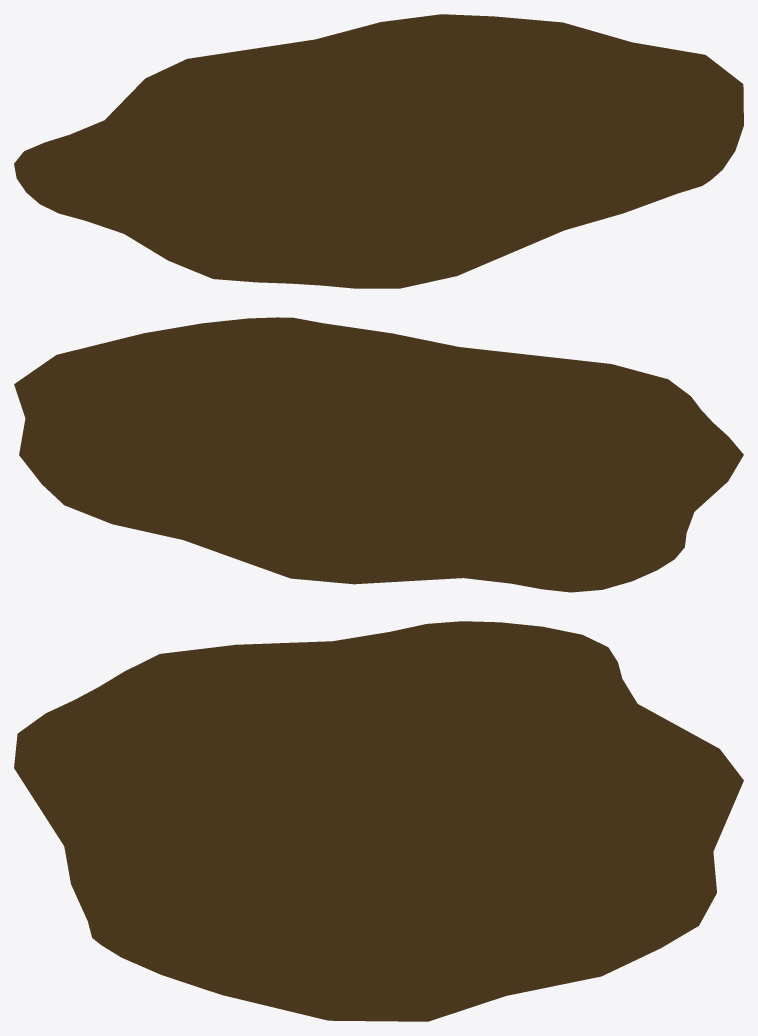
File: mud_2.fbx
The picture shows the model from 3 angles, top to bottom: view 1: azimuth 30°, elevation 25°; view 2: azimuth 150°, elevation 25°; view 3: azimuth 270°, elevation 25°; orthographic projection. The views are drawn at different scales.
Parts seen in each view (by area): view 1: mud_2; view 2: mud_2; view 3: mud_2.
Boxes of the visible parts, x1,y1,x2,y2 form: mud_2: [14, 14, 743, 288]; mud_2: [14, 317, 743, 592]; mud_2: [14, 621, 743, 1021].
Bounding box in the file's own units: 266 × 3.34e-05 × 205.
